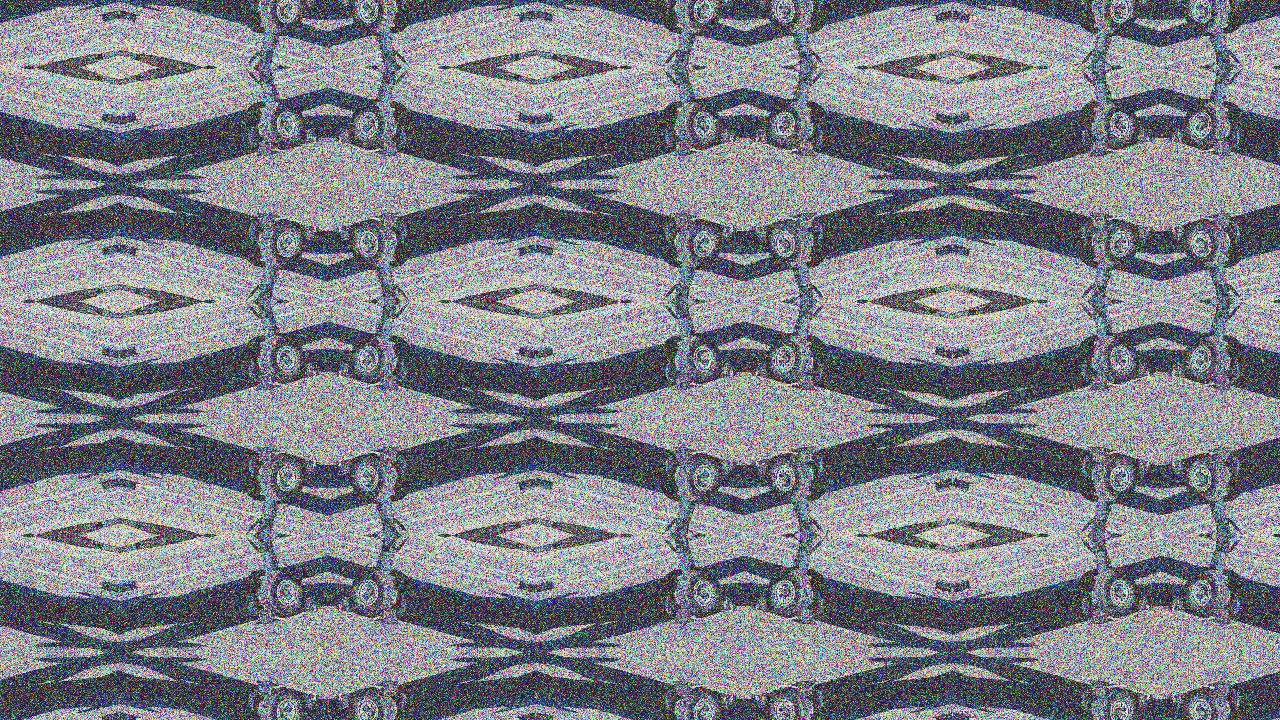chock: (669, 136, 698, 159), (1208, 136, 1237, 159), (669, 209, 698, 232), (1208, 209, 1237, 232), (669, 444, 698, 467), (1208, 444, 1237, 467), (669, 605, 698, 628), (1208, 605, 1237, 628), (252, 136, 280, 159), (374, 136, 402, 159), (791, 136, 819, 159), (1087, 136, 1115, 159), (252, 209, 280, 232), (374, 209, 402, 232), (791, 209, 819, 232), (1087, 209, 1115, 232), (252, 444, 280, 467), (374, 444, 402, 467), (791, 444, 819, 467), (1087, 444, 1115, 467), (252, 605, 280, 628), (374, 605, 402, 628), (791, 605, 819, 628), (1087, 605, 1115, 628), (669, 371, 698, 393), (1208, 371, 1237, 393), (669, 679, 698, 701), (1208, 679, 1237, 701), (252, 371, 280, 393), (374, 371, 402, 393), (791, 371, 819, 393), (1087, 371, 1115, 393), (252, 679, 280, 701), (374, 679, 402, 701), (791, 679, 819, 701), (1087, 679, 1115, 701), (750, 126, 777, 147), (1129, 126, 1156, 147), (750, 221, 777, 242), (1129, 221, 1156, 242), (750, 456, 777, 477), (1129, 456, 1156, 477), (750, 595, 777, 616), (1129, 595, 1156, 616), (295, 126, 321, 147), (333, 126, 359, 147), (712, 126, 738, 147), (1168, 126, 1194, 147), (295, 221, 321, 242), (333, 221, 359, 242), (712, 221, 738, 242), (1168, 221, 1194, 242), (295, 456, 321, 477), (333, 456, 359, 477), (712, 456, 738, 477), (1168, 456, 1194, 477), (295, 595, 321, 616), (333, 595, 359, 616), (712, 595, 738, 616), (1168, 595, 1194, 616), (750, 361, 777, 381), (1129, 361, 1156, 381), (750, 691, 777, 711), (1129, 691, 1156, 711), (295, 361, 321, 381), (333, 361, 359, 381), (712, 361, 738, 381), (1168, 361, 1194, 381), (295, 691, 321, 711), (333, 691, 359, 711), (712, 691, 738, 711), (1168, 691, 1194, 711), (750, 0, 777, 7), (1129, 0, 1156, 7), (295, 0, 321, 7), (333, 0, 359, 7), (712, 0, 738, 7), (1168, 0, 1194, 7)
wheel: (256, 329, 308, 387), (346, 329, 398, 387), (673, 329, 725, 387), (763, 329, 815, 387), (1091, 329, 1143, 387), (1181, 329, 1233, 387), (256, 450, 308, 508), (346, 450, 398, 508), (673, 450, 725, 508), (763, 450, 815, 508), (1091, 450, 1143, 508), (1181, 450, 1233, 508), (256, 564, 308, 622), (346, 564, 398, 622), (673, 564, 725, 622), (763, 564, 815, 622), (1091, 564, 1143, 622), (1181, 564, 1233, 622), (256, 95, 308, 152), (346, 95, 398, 152), (673, 95, 725, 152), (763, 95, 815, 152), (1091, 95, 1143, 152), (1181, 95, 1233, 152), (256, 216, 308, 273), (346, 216, 398, 273), (673, 216, 725, 273), (763, 216, 815, 273), (1091, 216, 1143, 273), (1181, 216, 1233, 273), (797, 99, 836, 152), (1070, 99, 1109, 152), (797, 216, 836, 269), (1070, 216, 1109, 269), (797, 334, 836, 387), (1070, 334, 1109, 387), (797, 450, 836, 503), (1070, 450, 1109, 503), (797, 569, 836, 622), (1070, 569, 1109, 622), (256, 0, 308, 39), (346, 0, 398, 39), (673, 0, 725, 39), (763, 0, 815, 39), (1091, 0, 1143, 39), (1181, 0, 1233, 39), (236, 99, 274, 152), (380, 99, 418, 152), (653, 99, 691, 152), (1215, 99, 1253, 152), (236, 216, 274, 269), (380, 216, 418, 269), (653, 216, 691, 269), (1215, 216, 1253, 269), (236, 334, 274, 387), (380, 334, 418, 387), (653, 334, 691, 387), (1215, 334, 1253, 387), (236, 450, 274, 503), (380, 450, 418, 503), (653, 450, 691, 503), (1215, 450, 1253, 503), (236, 569, 274, 622), (380, 569, 418, 622), (653, 569, 691, 622), (1215, 569, 1253, 622), (256, 685, 308, 720), (346, 685, 398, 720), (673, 685, 725, 720), (763, 685, 815, 720), (1091, 685, 1143, 720), (1181, 685, 1233, 720), (797, 685, 836, 720), (1070, 685, 1109, 720), (236, 685, 274, 720), (380, 685, 418, 720), (653, 685, 691, 720), (1215, 685, 1253, 720), (797, 0, 836, 34), (1070, 0, 1109, 34), (236, 0, 274, 34), (380, 0, 418, 34), (653, 0, 691, 34), (1215, 0, 1253, 34), (125, 110, 136, 122), (518, 110, 529, 122), (935, 110, 946, 122), (960, 110, 971, 122), (125, 246, 136, 258), (518, 246, 529, 258), (935, 246, 946, 258), (960, 246, 971, 258), (125, 12, 136, 23), (518, 12, 529, 23), (935, 12, 946, 23), (960, 12, 971, 23), (125, 345, 136, 356), (518, 345, 529, 356), (935, 345, 946, 356), (960, 345, 971, 356), (125, 481, 136, 492), (518, 481, 529, 492), (935, 481, 946, 492), (960, 481, 971, 492), (125, 580, 136, 591), (518, 580, 529, 591), (935, 580, 946, 591), (960, 580, 971, 591), (101, 110, 111, 122), (118, 112, 128, 124), (526, 112, 536, 124), (543, 110, 553, 122), (101, 246, 111, 258), (118, 244, 128, 256), (526, 244, 536, 256), (543, 246, 553, 258), (101, 12, 111, 23), (118, 10, 128, 21), (526, 10, 536, 21), (543, 12, 553, 23), (101, 345, 111, 356), (118, 347, 128, 358), (526, 347, 536, 358), (543, 345, 553, 356), (101, 481, 111, 492), (118, 479, 128, 490), (526, 479, 536, 490), (543, 481, 553, 492), (101, 580, 111, 591), (118, 582, 128, 593), (526, 582, 536, 593), (543, 580, 553, 591), (109, 112, 118, 124), (536, 112, 545, 124), (944, 112, 953, 124), (953, 112, 962, 124), (109, 244, 118, 256), (536, 244, 545, 256), (944, 244, 953, 256), (953, 244, 962, 256), (109, 10, 118, 21), (536, 10, 545, 21), (944, 10, 953, 21), (953, 10, 962, 21), (109, 347, 118, 358), (536, 347, 545, 358), (944, 347, 953, 358), (953, 347, 962, 358), (109, 479, 118, 490), (536, 479, 545, 490), (944, 479, 953, 490), (953, 479, 962, 490), (109, 582, 118, 593), (536, 582, 545, 593), (944, 582, 953, 593), (953, 582, 962, 593), (118, 714, 128, 720), (526, 714, 536, 720), (109, 714, 118, 720), (536, 714, 545, 720), (944, 714, 953, 720), (953, 714, 962, 720), (125, 716, 136, 720), (518, 716, 529, 720), (935, 716, 946, 720), (960, 716, 971, 720), (101, 716, 111, 720), (543, 716, 553, 720)
